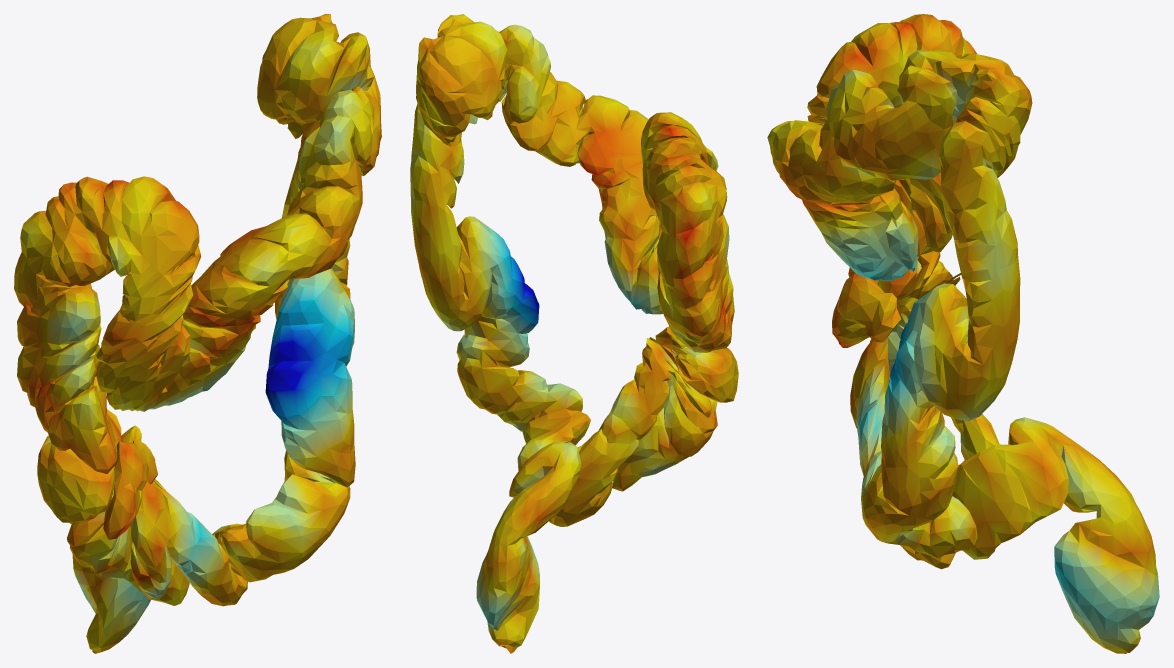
Rendered from errormap.glb.
3 views of the same model, side by side, from view 1: azimuth 30°, elevation 25°; view 2: azimuth 150°, elevation 25°; view 3: azimuth 270°, elevation 25° (orthographic). The views are drawn at different scales.
Parts seen in each view (by area): view 1: world; view 2: world; view 3: world.
Part boxes in pixels (x1,y1,x2,y2): world: (14, 14, 381, 653); world: (410, 14, 738, 653); world: (767, 14, 1159, 653).
Bounding box in the file's own units: 0.2455 × 0.4381 × 0.232.
